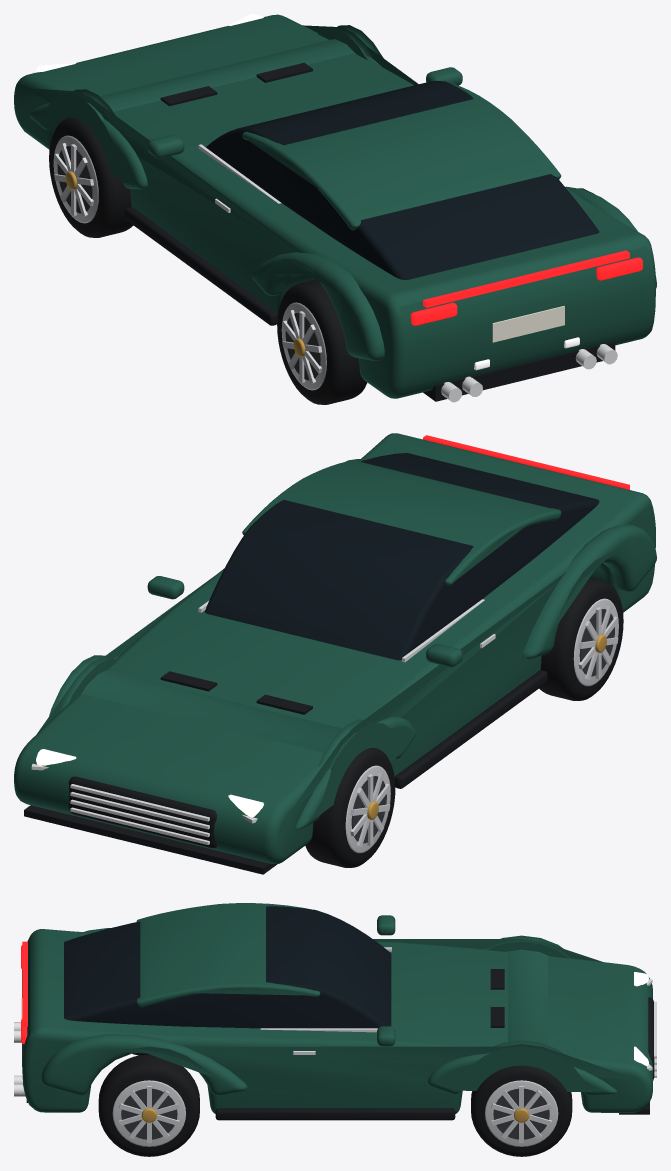
The model's file is car.glb.
The picture shows the model from 3 angles, top to bottom: view 1: azimuth 30°, elevation 25°; view 2: azimuth 150°, elevation 25°; view 3: azimuth 270°, elevation 25°; orthographic projection. The views are drawn at different scales.
Visible parts, largest first — view 1: body_mesh, wheel_RL_mesh, wheel_FL_mesh; view 2: body_mesh, wheel_RL_mesh, wheel_FL_mesh; view 3: body_mesh, wheel_RR_mesh, wheel_FR_mesh.
Boxes of the visible parts, <box> form: body_mesh: <box>14,14,656,402</box>; wheel_RL_mesh: <box>277,279,367,404</box>; wheel_FL_mesh: <box>49,118,133,237</box>; body_mesh: <box>14,433,656,874</box>; wheel_RL_mesh: <box>539,577,623,700</box>; wheel_FL_mesh: <box>305,748,395,867</box>; body_mesh: <box>14,903,656,1120</box>; wheel_RR_mesh: <box>98,1054,199,1156</box>; wheel_FR_mesh: <box>471,1065,572,1156</box>.
Size of the model in its own units: 2.06 by 1.23 by 4.56.
